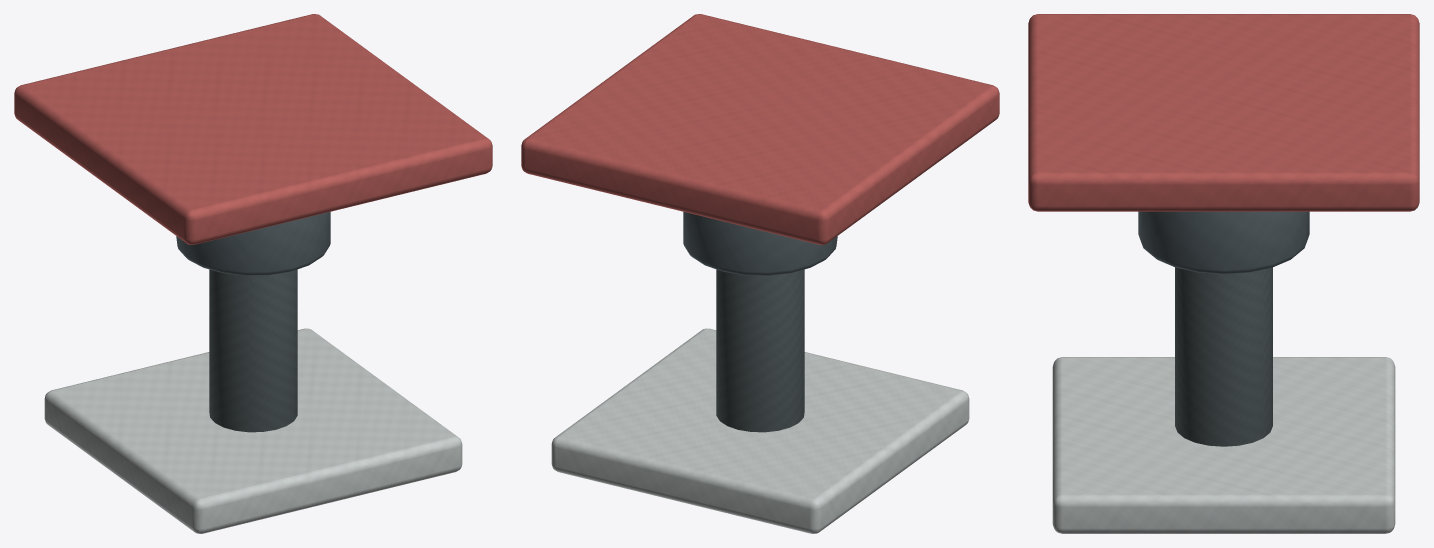
The model's file is CeilingSprinkler.fbx.
3 renders of one model, left to right at view 1: azimuth 30°, elevation 25°; view 2: azimuth 150°, elevation 25°; view 3: azimuth 270°, elevation 25°, orthographic. The views are drawn at different scales.
Parts seen in each view (by area): view 1: CeilingSprinkler_Mesh; view 2: CeilingSprinkler_Mesh; view 3: CeilingSprinkler_Mesh.
Boxes of the visible parts, x1,y1,x2,y2 form: CeilingSprinkler_Mesh: [14, 14, 492, 533]; CeilingSprinkler_Mesh: [521, 14, 999, 533]; CeilingSprinkler_Mesh: [1028, 14, 1419, 533].
Bounding box in the file's own units: 32 × 33.75 × 32.
